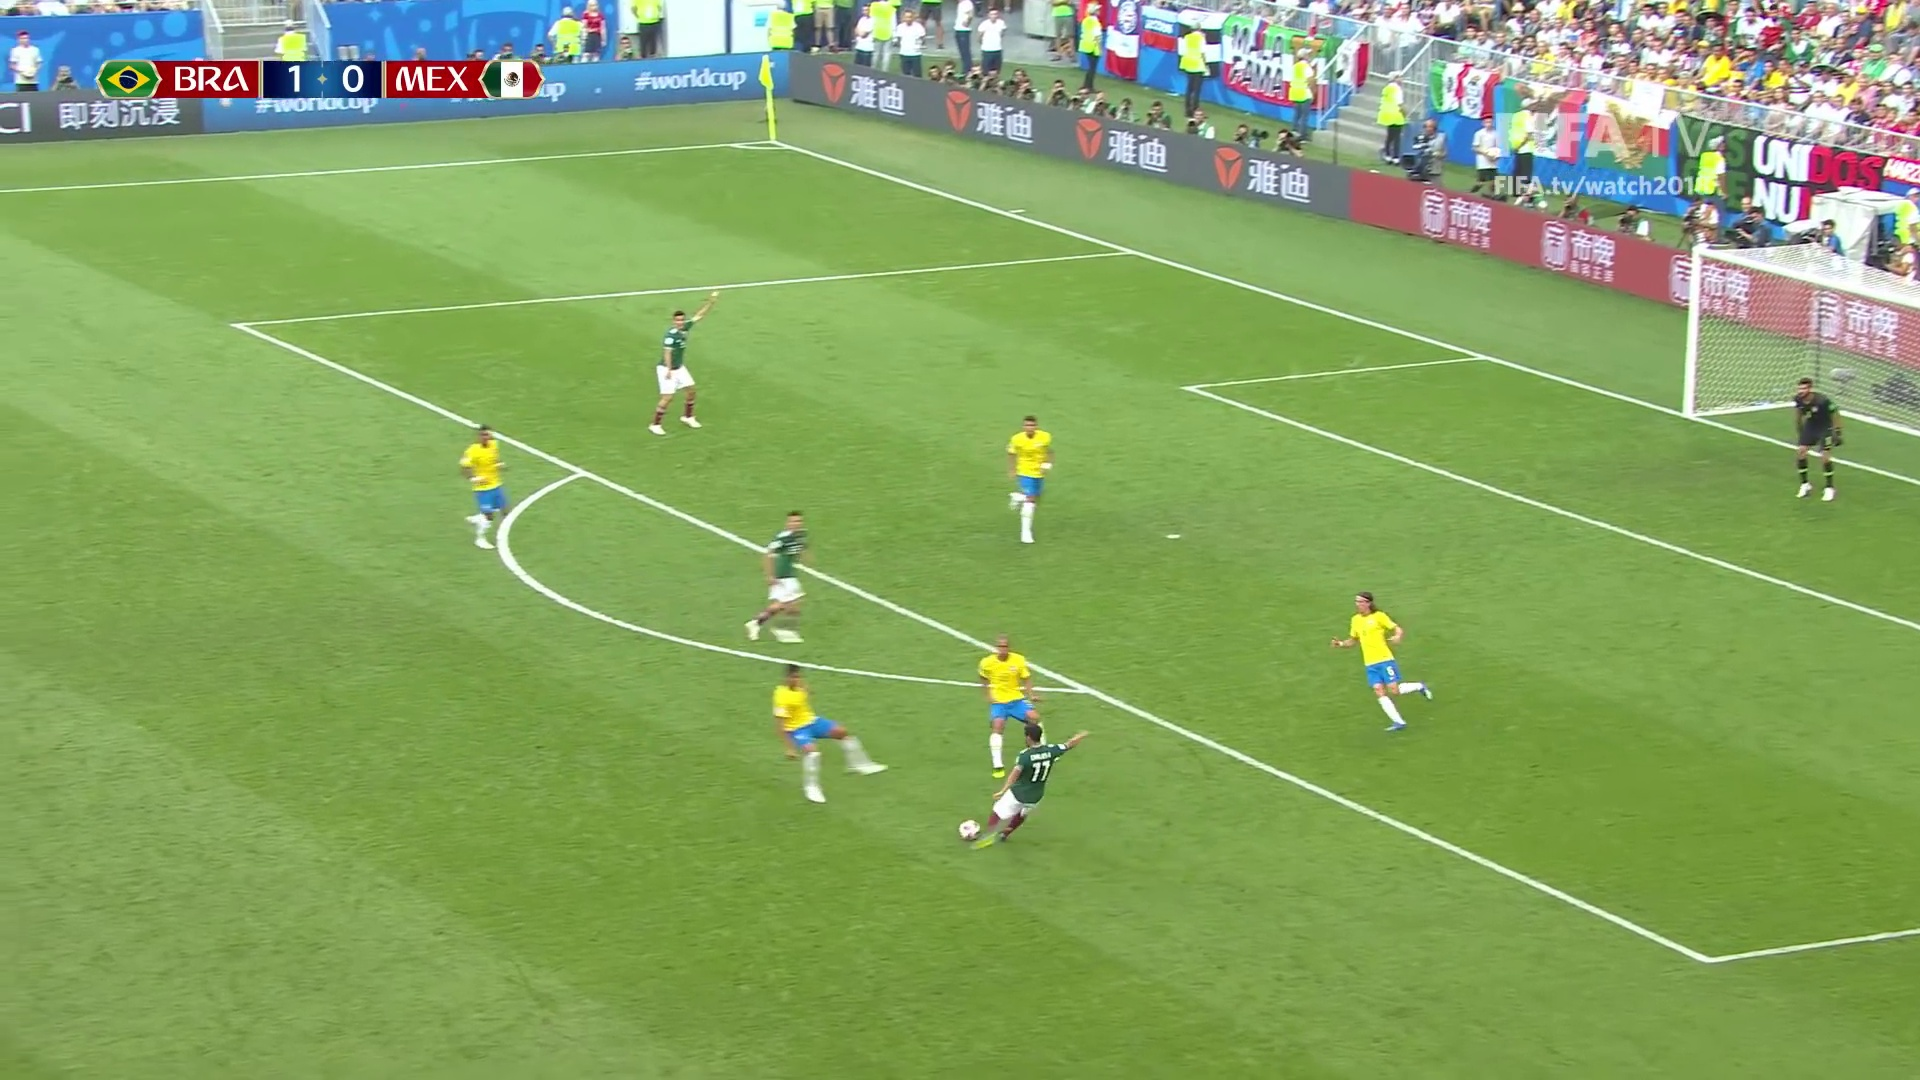ball: (958, 820, 980, 840)
person: (773, 664, 885, 797), (1337, 590, 1428, 727), (1002, 726, 1086, 842), (649, 292, 709, 426), (752, 512, 808, 642), (989, 637, 1039, 772), (1005, 415, 1053, 540), (1791, 381, 1840, 500), (462, 424, 507, 550)
